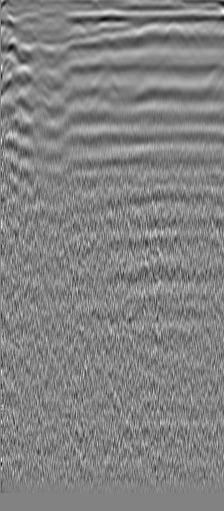가스: (211, 141, 224, 164)
오수: (16, 23, 36, 43)
우수: (161, 22, 186, 49)
